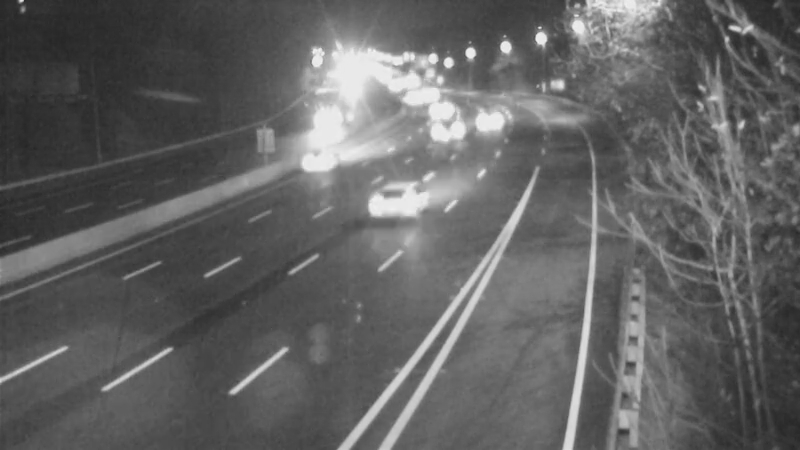vehicle: (275, 114, 355, 194), (359, 165, 439, 245), (405, 69, 455, 119), (388, 74, 438, 124), (412, 86, 462, 136), (456, 93, 506, 143), (422, 105, 472, 155), (302, 89, 352, 139)
